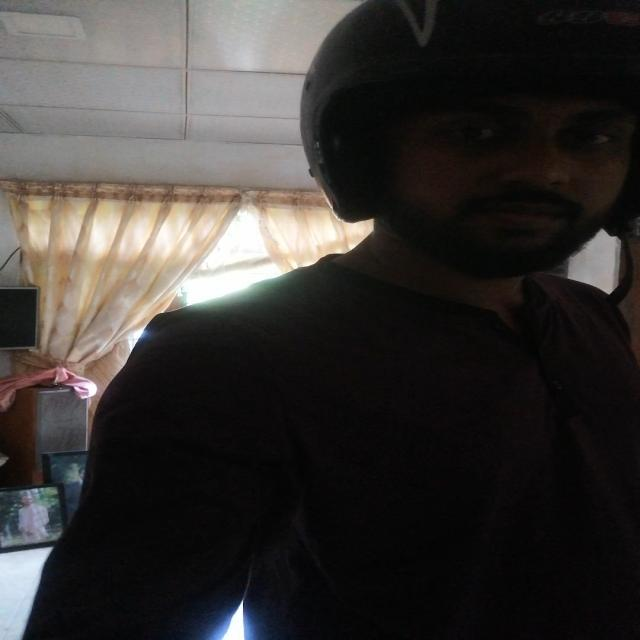Helmet_Wearer: (298, 0, 640, 282)
Person: (90, 0, 640, 640)
